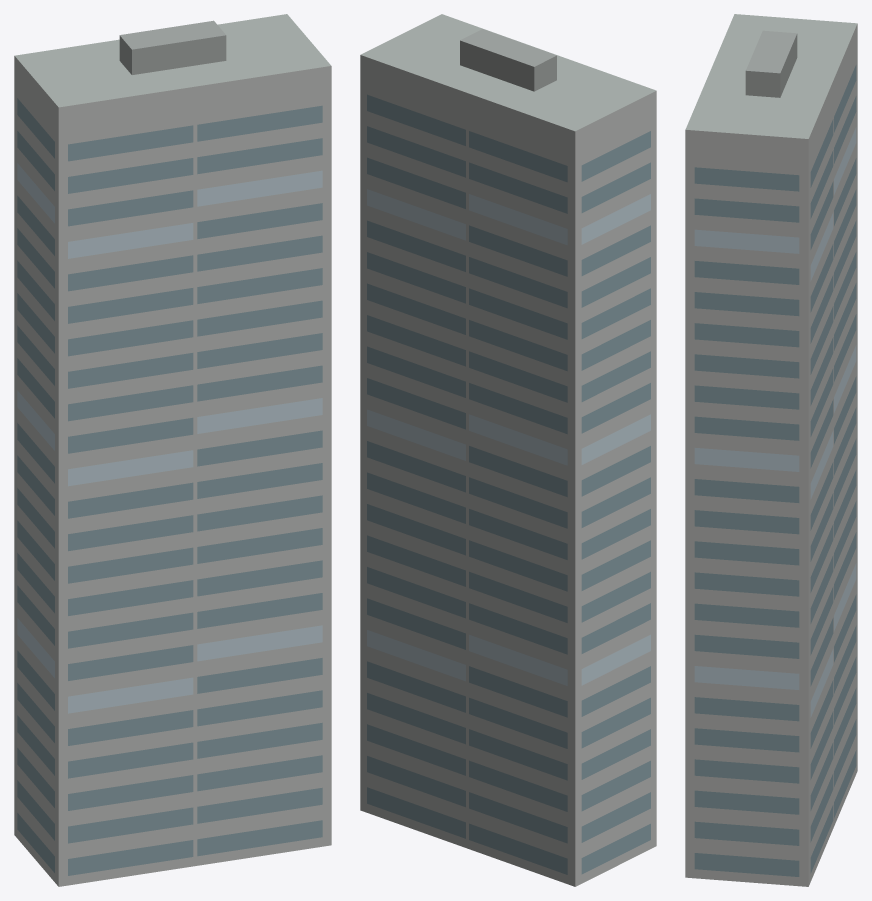
Rendered from fallback-olympic-athletes-village-322.glb.
3 renders of one model, left to right at view 1: azimuth 30°, elevation 25°; view 2: azimuth 150°, elevation 25°; view 3: azimuth 270°, elevation 25°, orthographic. The views are drawn at different scales.
Parts seen in each view (by area): view 1: fallback-olympic-athletes-village-322; view 2: fallback-olympic-athletes-village-322; view 3: fallback-olympic-athletes-village-322.
Part boxes in pixels (bbox=[...]): fallback-olympic-athletes-village-322: bbox=[14, 14, 331, 886]; fallback-olympic-athletes-village-322: bbox=[360, 14, 656, 886]; fallback-olympic-athletes-village-322: bbox=[685, 14, 857, 886].
Size of the model in its own units: 26.26 by 75.6 by 15.27.
